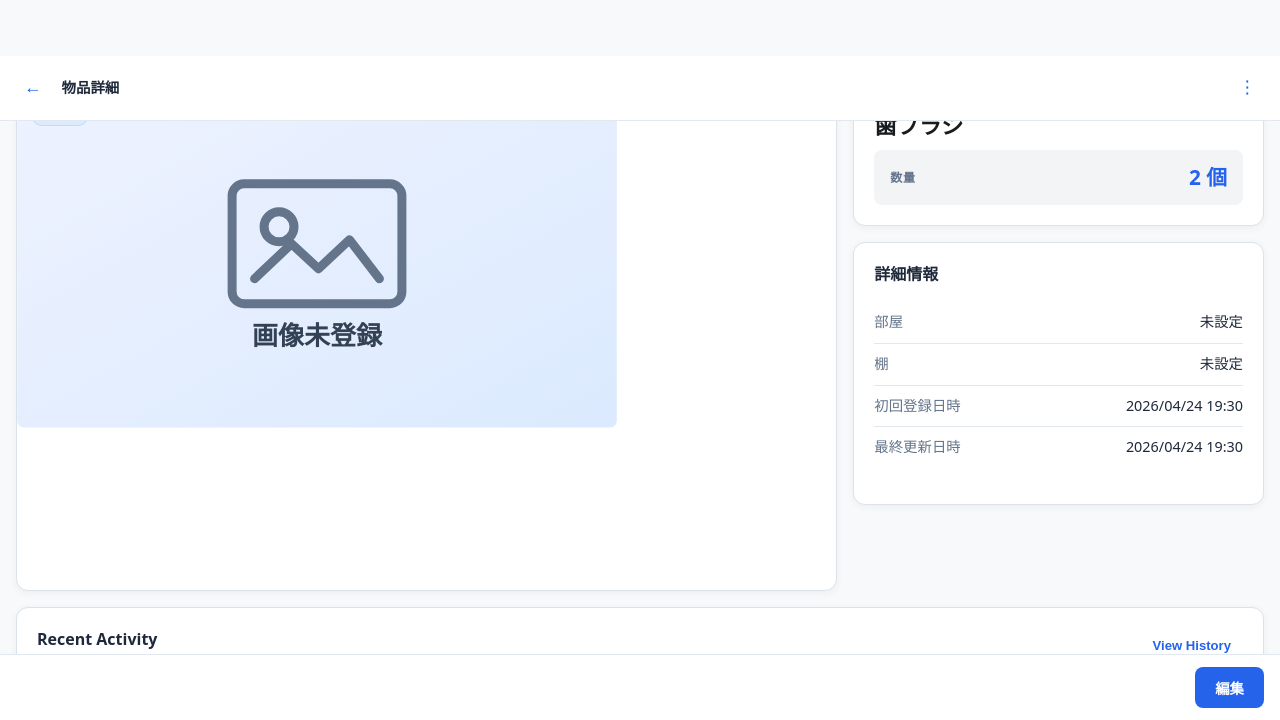
Scenario: ItemDetailPage › 削除失敗時にエラーメッセージを表示し一覧遷移しない
Click the button with class "menu-btn" at (1247, 88), box [1230,71,1264,105]
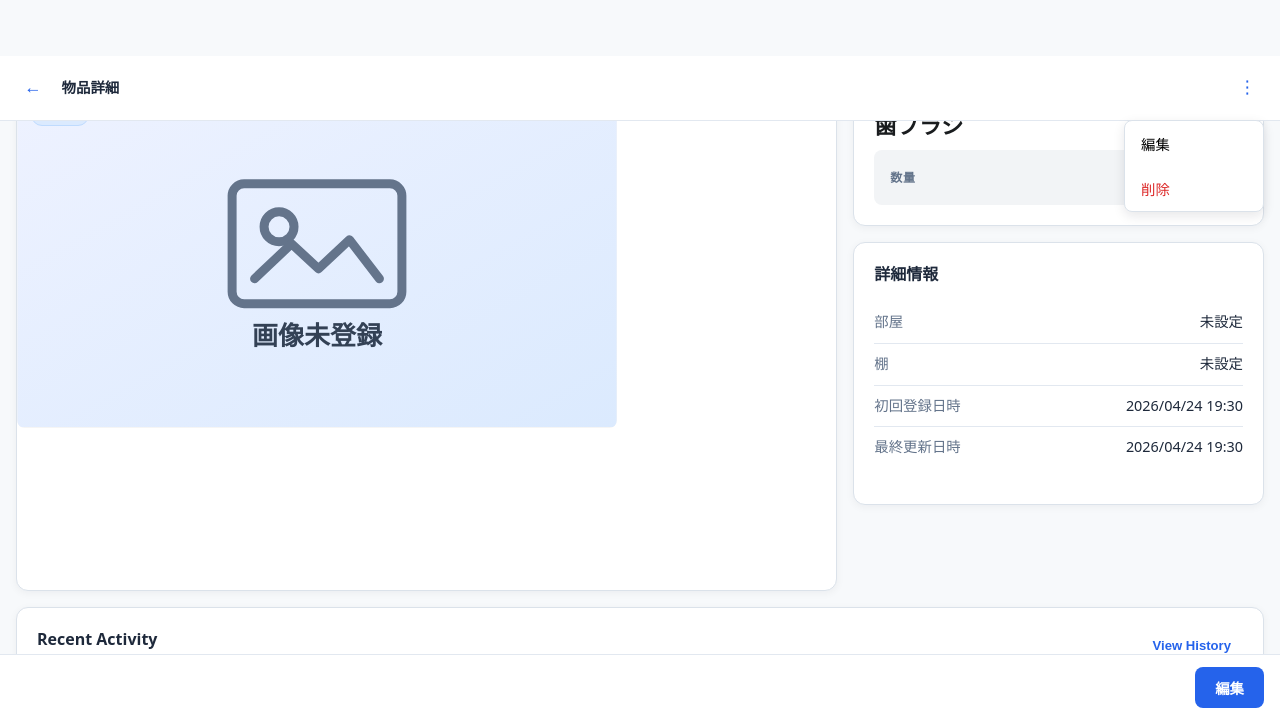
Click the button with class "danger" at (1194, 188), box [1125,166,1263,211]
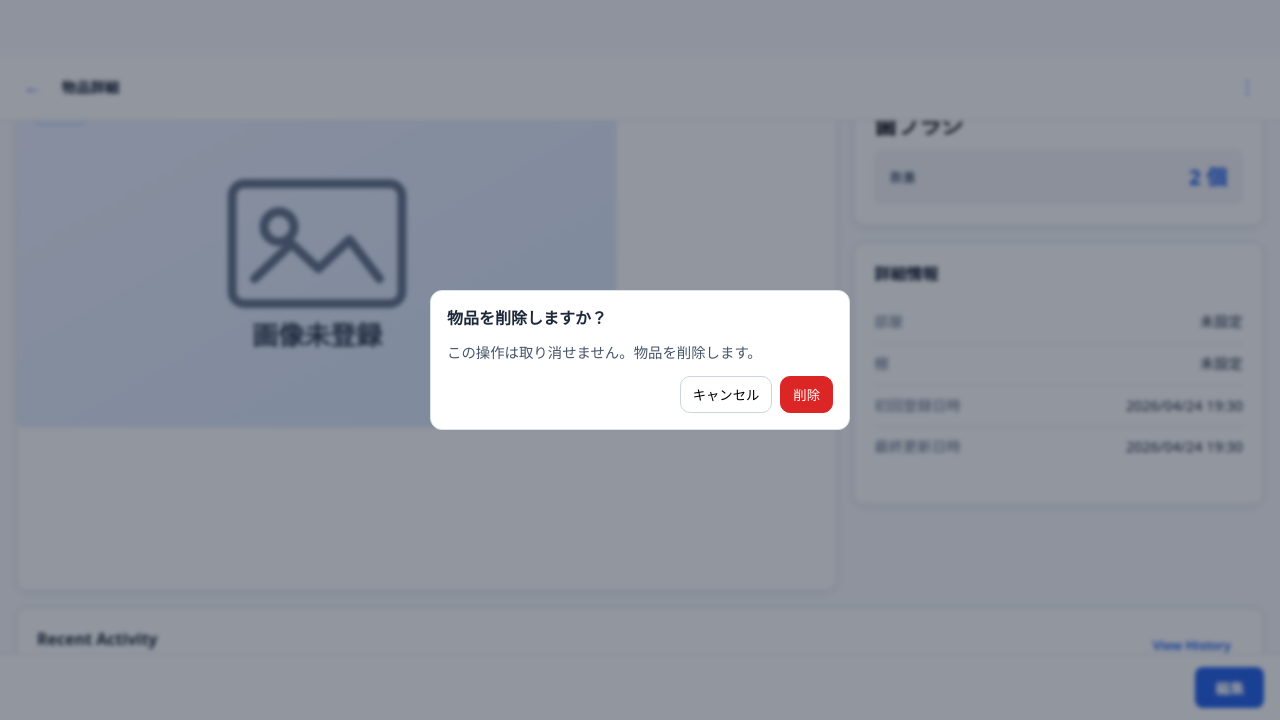
Click the button with class "danger" at (807, 394), box [780,376,833,412]
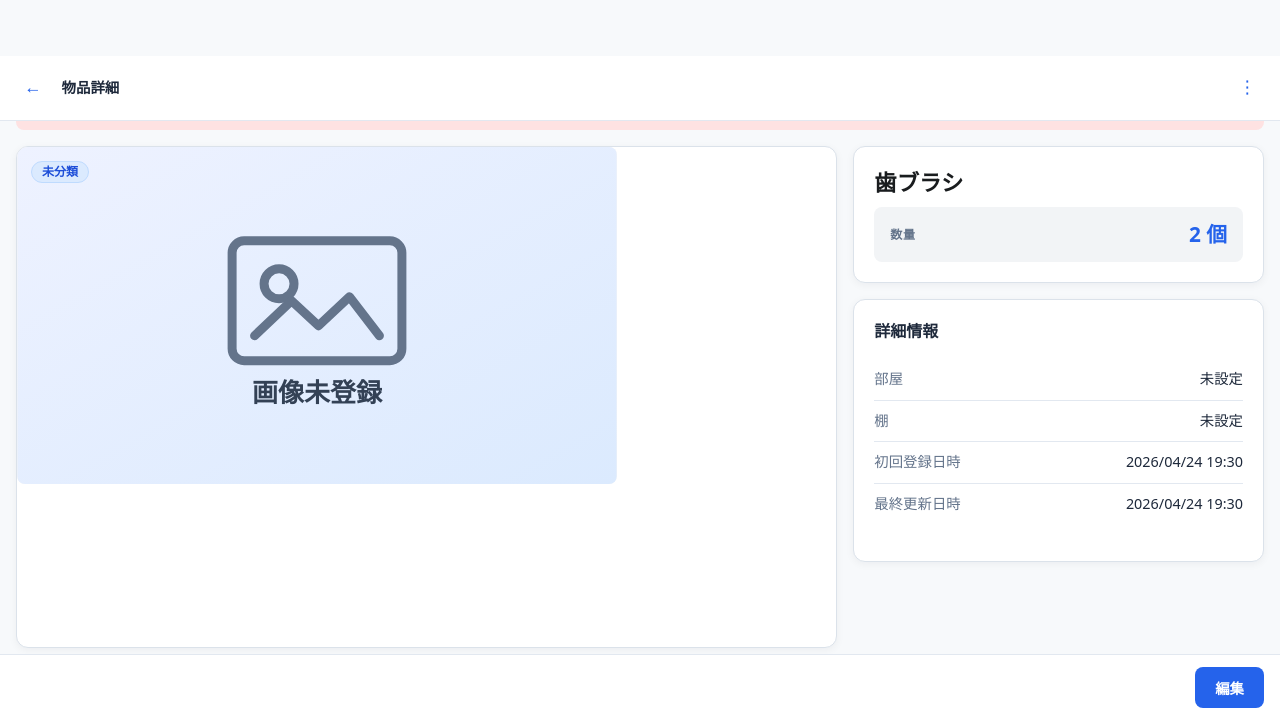
Expected: the text "削除に失敗しました" is shown, [30,99,346,118]
